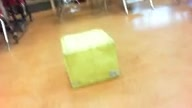cube: (60, 28, 120, 89)
